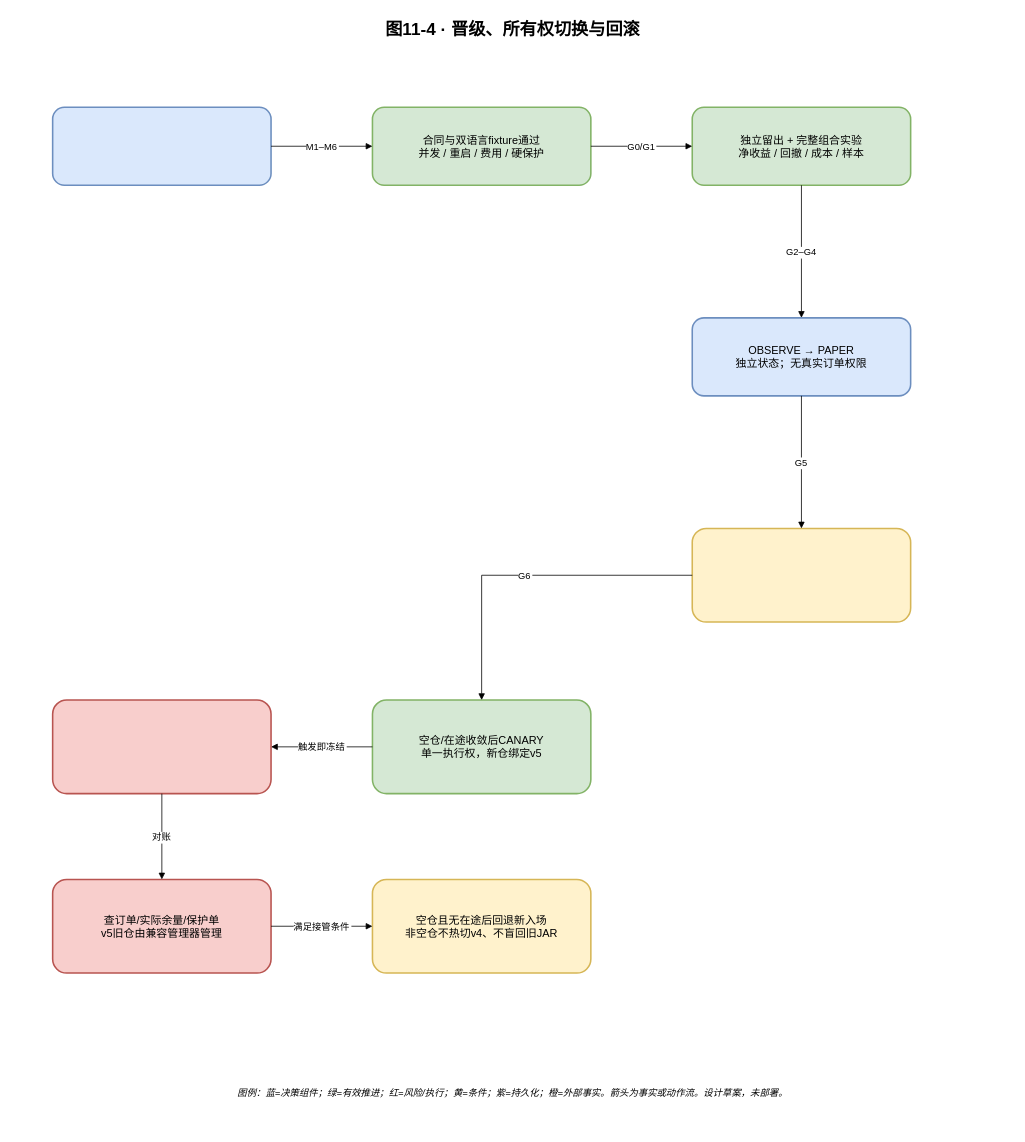
The diagram is 1025 pixels wide and 1142 high, and some of its shapes have lost their labels. Each missing label, with the centre of its shape:
"任何执行安全断言失败 冻结新入场、保持有效风险管理者" belongs at point 161,746.
"明确账户/模型/预算批准 原生保护与回滚演练通过" belongs at point 801,574.
"设计与manifest冻结 版本 / 数据 / 参数 / 门槛" belongs at point 161,146.
